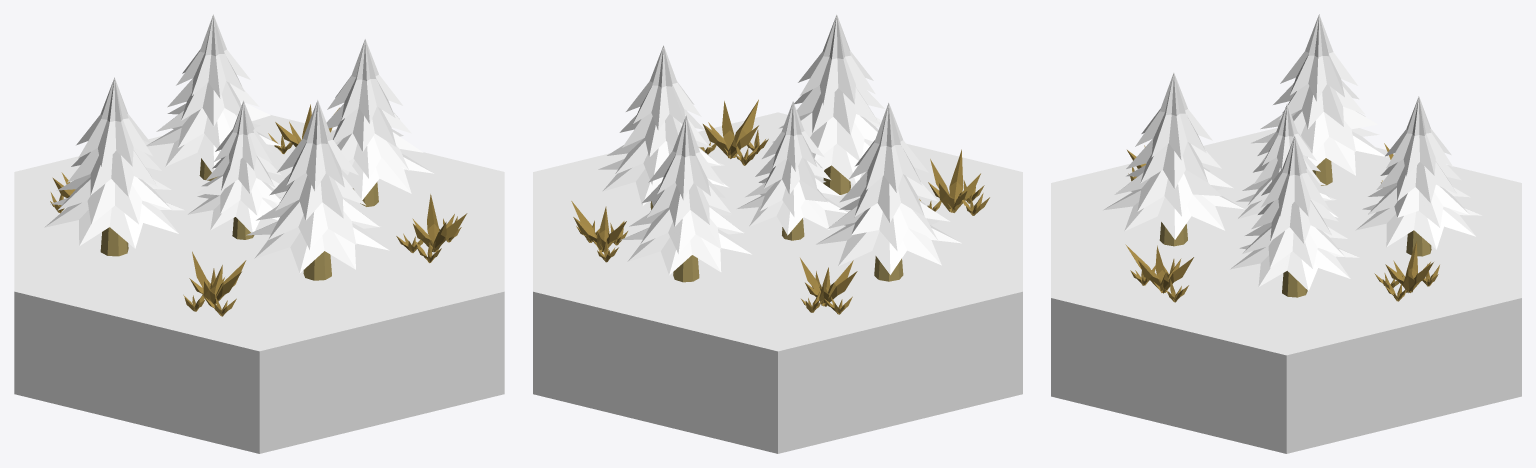
Rendered from Pinos_Altos_Nieve.fbx.
3 renders of one model, left to right at view 1: azimuth 30°, elevation 25°; view 2: azimuth 150°, elevation 25°; view 3: azimuth 270°, elevation 25°, orthographic. The views are drawn at different scales.
Parts seen in each view (by area): view 1: Pinos_Altos_Nieve; view 2: Pinos_Altos_Nieve; view 3: Pinos_Altos_Nieve.
Boxes of the visible parts, box(x1,y1,x2,y2) form: Pinos_Altos_Nieve: box(14, 14, 504, 453); Pinos_Altos_Nieve: box(533, 14, 1022, 453); Pinos_Altos_Nieve: box(1051, 14, 1521, 453).
Size of the model in its own units: 200 by 108 by 173.
